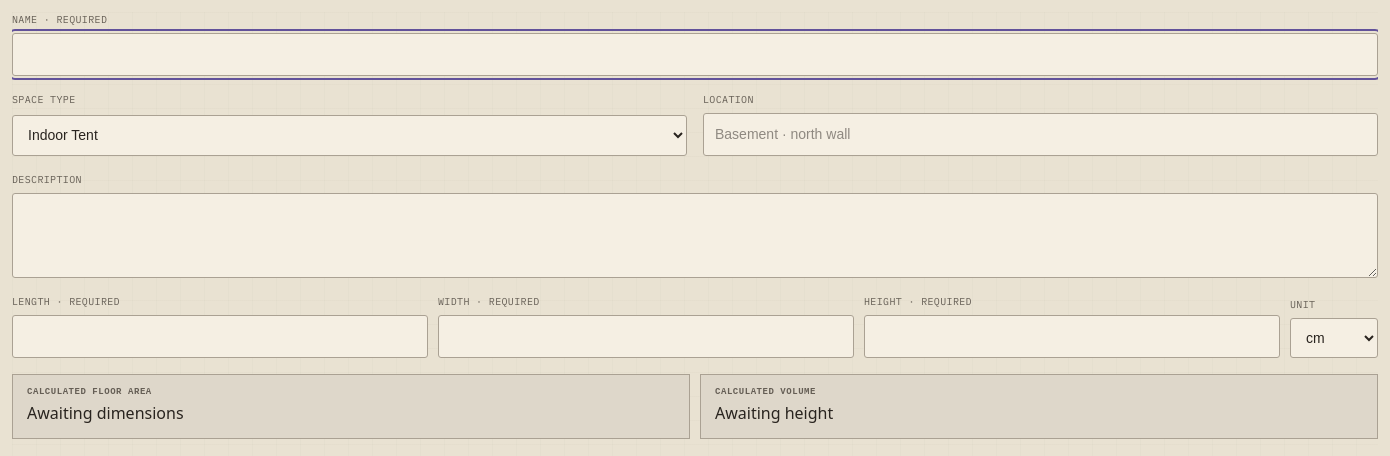
it: GrowSpaceDetailsForm › previews area and volume from linear dimensions
The image size is (1390, 456).
Type "80" into the field labelled "Length · required" at {"x": 220, "y": 336}, box [12,315,428,358]
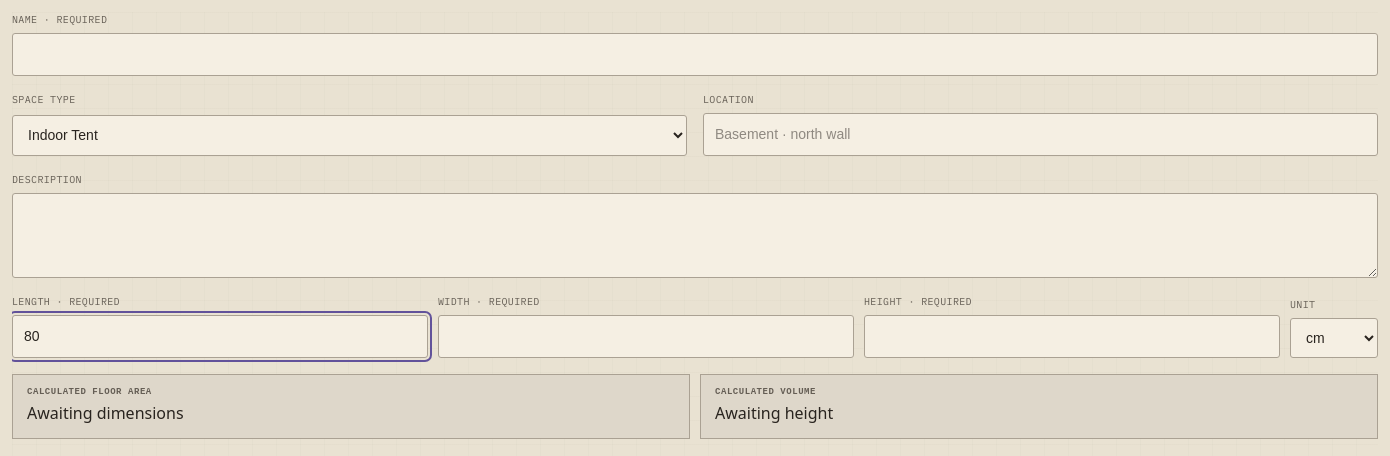
Type "80" into the field labelled "Width · required" at {"x": 646, "y": 336}, box [438,315,854,358]
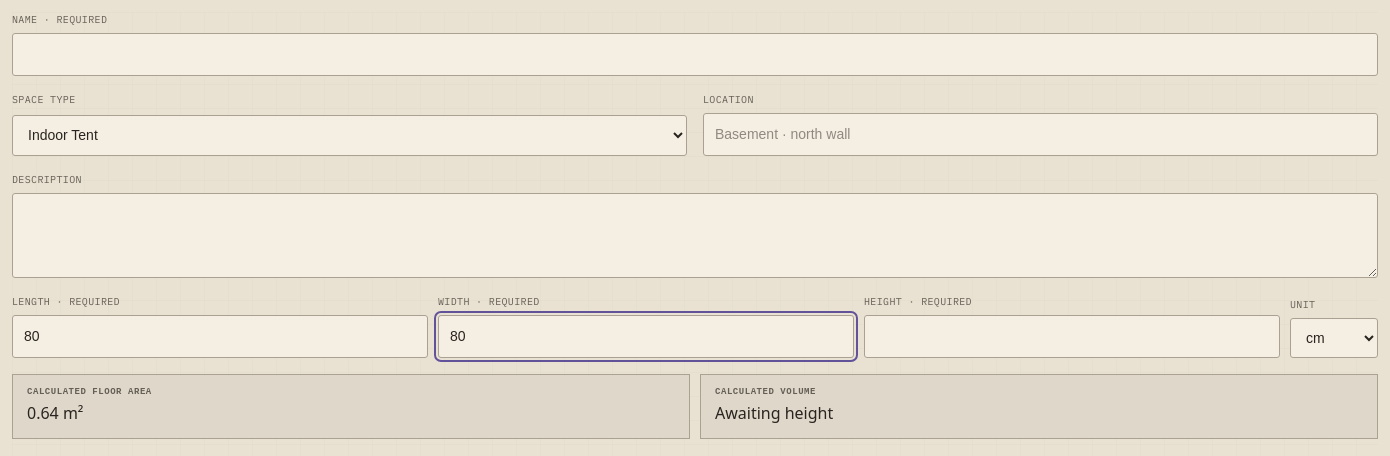
Type "180" into the field labelled "Height · required" at {"x": 1072, "y": 336}, box [864,315,1280,358]
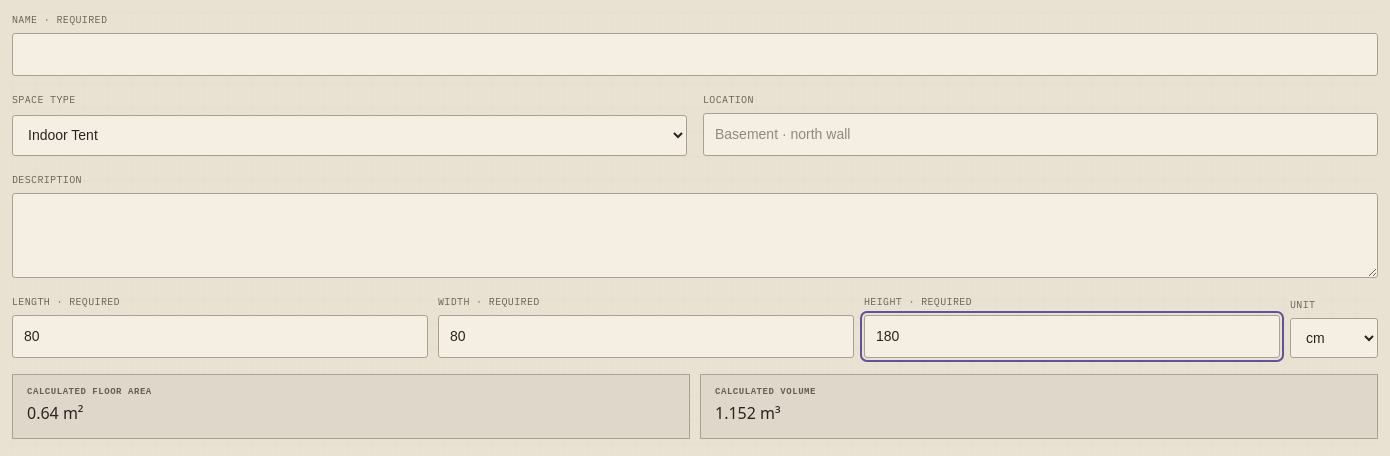
Expected: the text "0.64 m²" is shown, [27,402,84,424]
Expected: the text "1.152 m³" is shown, [715,402,781,424]
